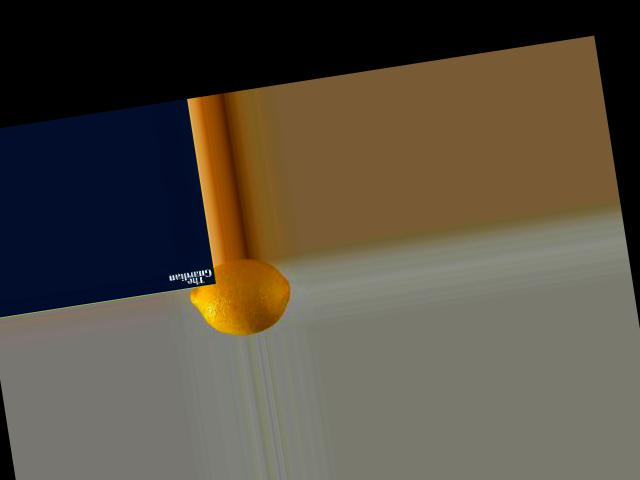lemon: (182, 251, 304, 343)
